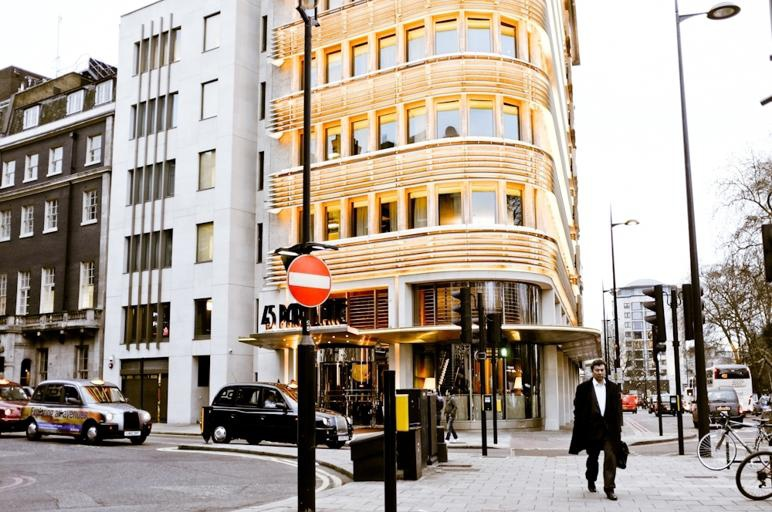non-vehicle: (696, 407, 771, 472), (736, 448, 772, 501)
